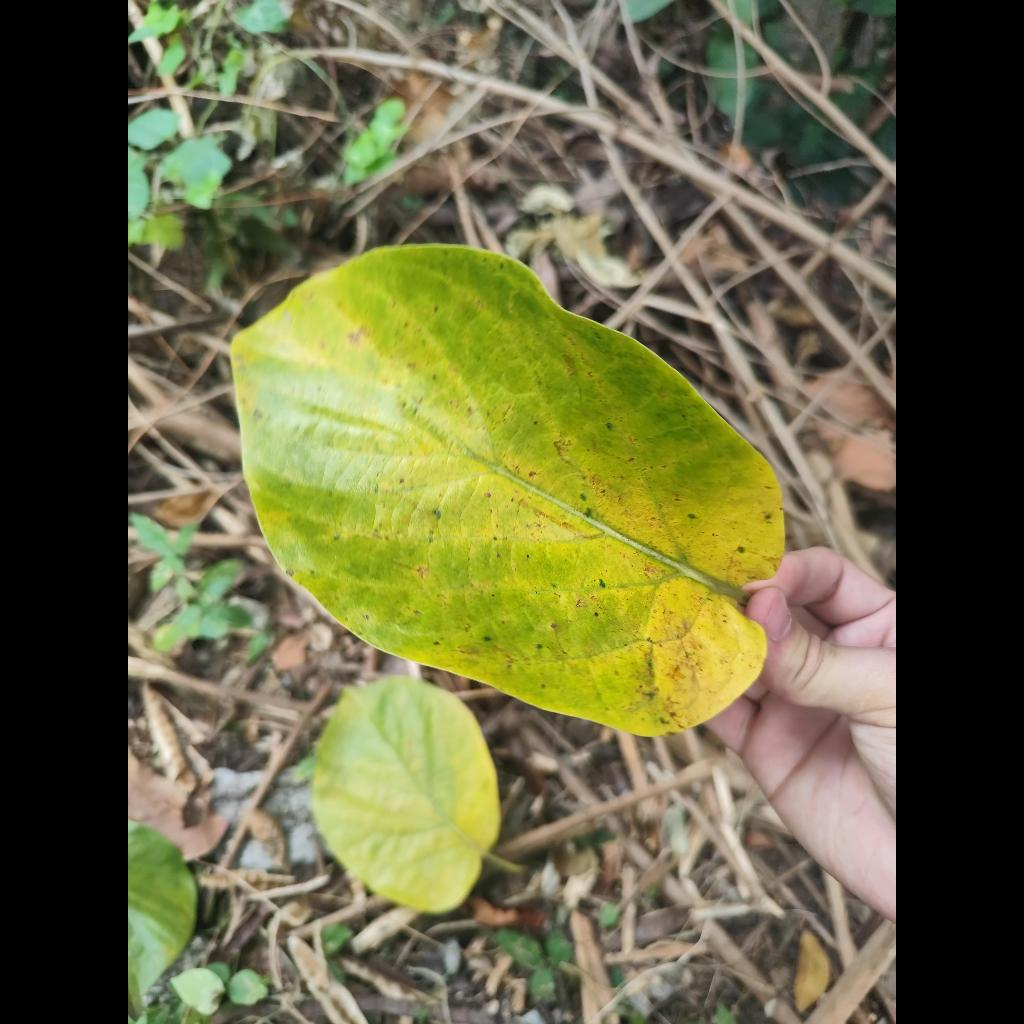deficiencia_nutricional: (231, 246, 784, 735)
